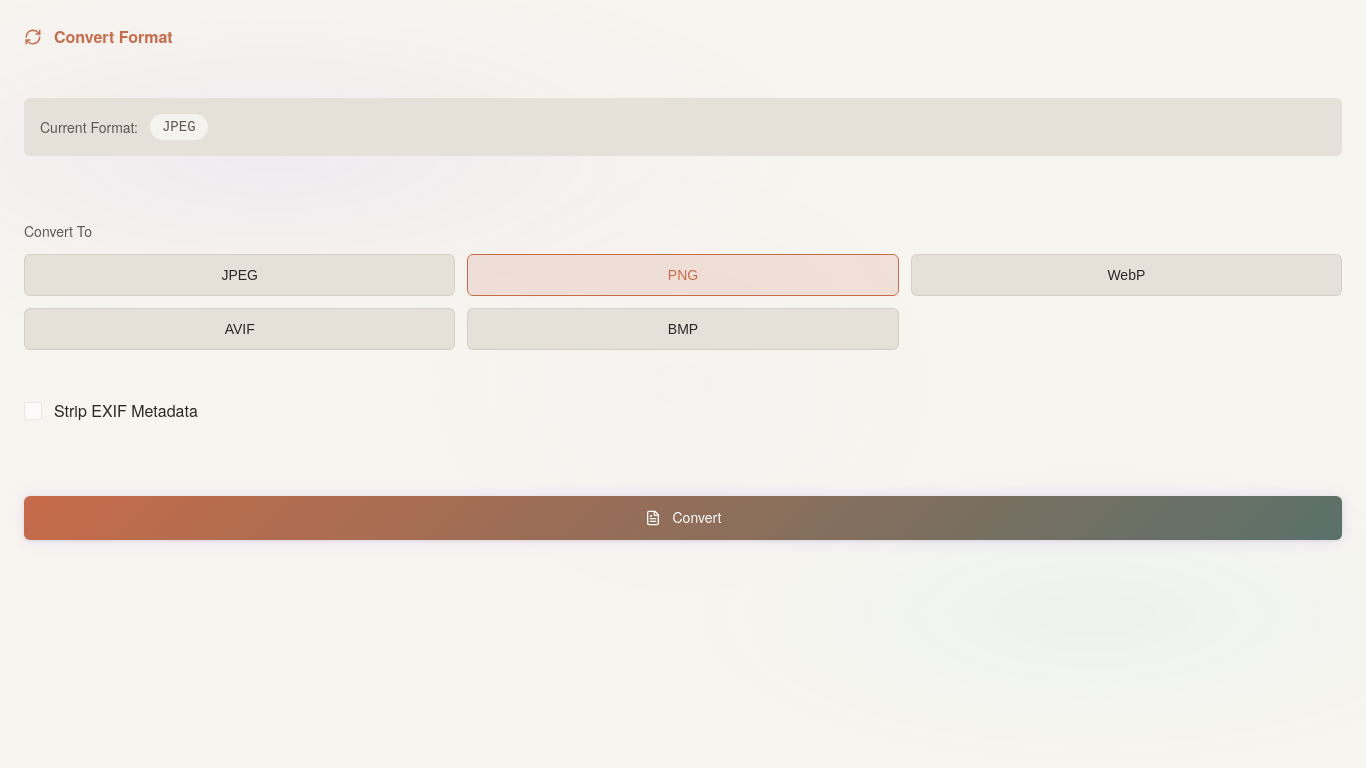
Test: ConvertPanel Component › toggles format and enables quality slider accordingly
Click the button "WebP" at (1126, 275), box top-left (911, 254), bottom-right (1342, 296)
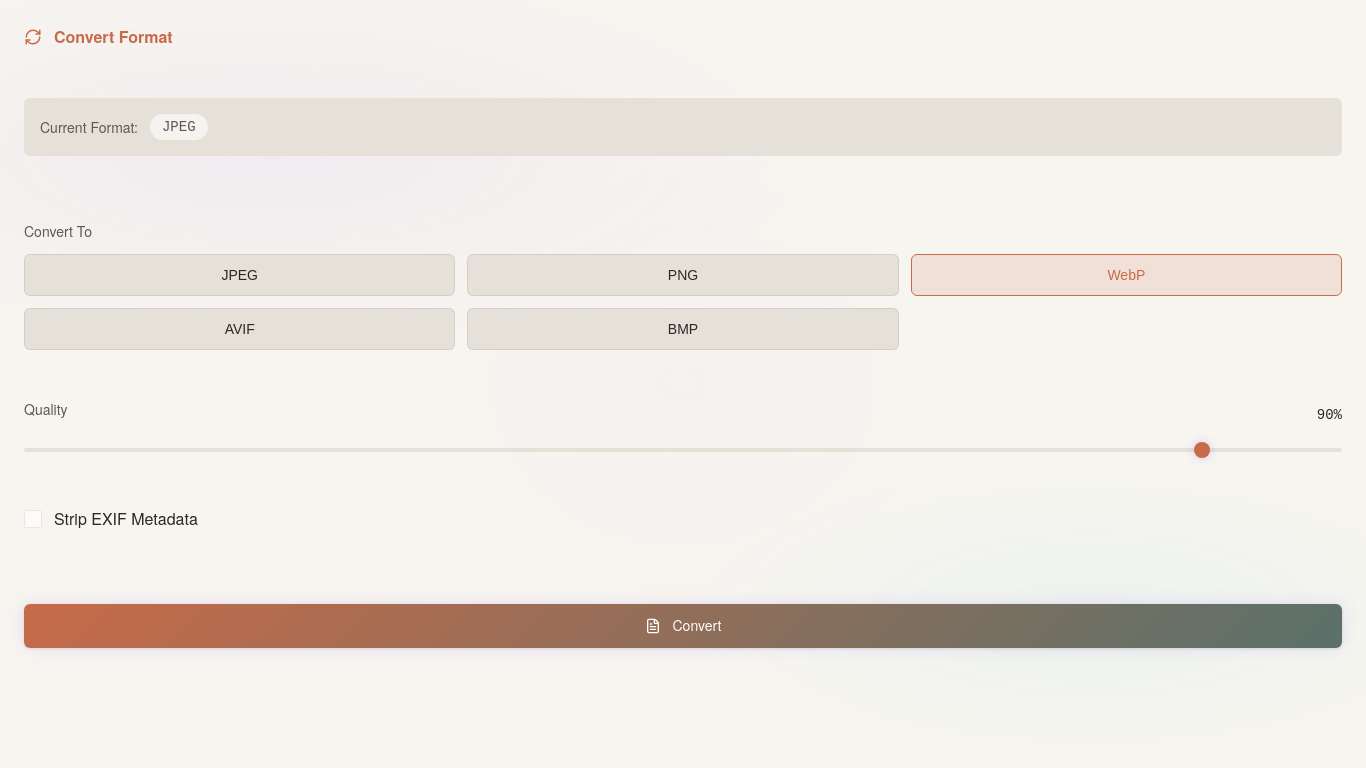
Expected: the slider is shown, top-left (24, 448), bottom-right (1342, 452)
